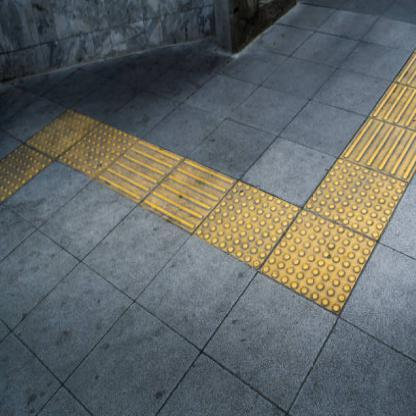podotacti: (1, 50, 416, 313)
